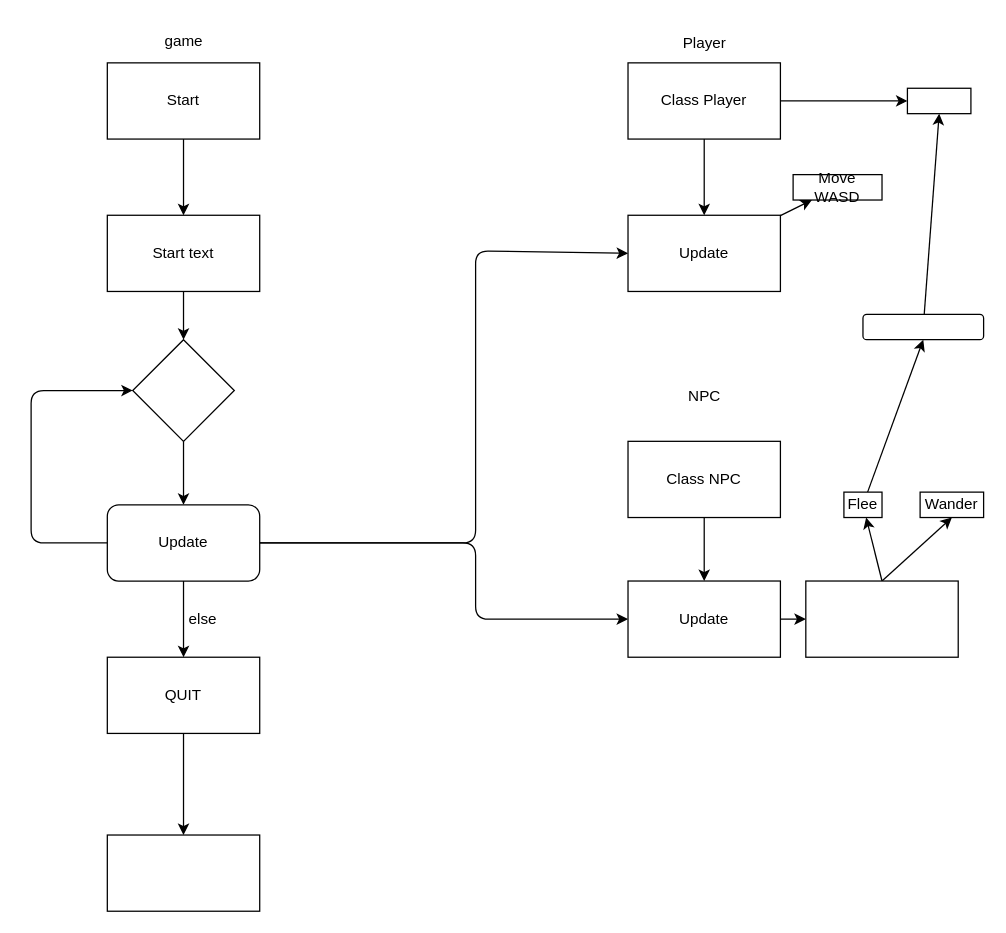
Some shapes in this 1006 by 933 pixel diagram are drawn without their labels. The box of each missing label's shape, as (x1, y1, x2, y2) in pixels:
Check position: (862, 313, 984, 340)
End: (106, 834, 260, 911)
Position: (906, 87, 971, 114)
State: (805, 580, 958, 657)
while running: (131, 338, 234, 441)
